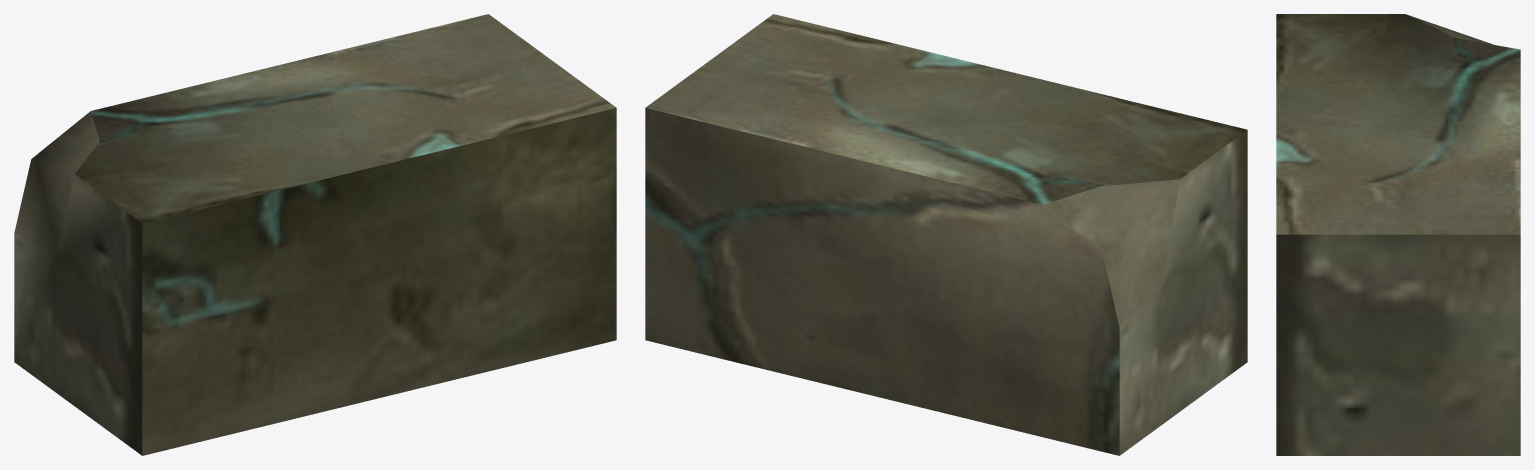
File: wujian007.fbx
The picture shows the model from 3 angles, left to right: view 1: azimuth 30°, elevation 25°; view 2: azimuth 150°, elevation 25°; view 3: azimuth 270°, elevation 25°; orthographic projection. The views are drawn at different scales.
Visible parts, largest first — view 1: wujian007; view 2: wujian007; view 3: wujian007.
Boxes of the visible parts, box(x1,y1,x2,y2) form: wujian007: box(14, 14, 616, 455); wujian007: box(645, 14, 1247, 455); wujian007: box(1276, 14, 1520, 455).
Bounding box in the file's own units: 66.07 × 30.93 × 30.93.
